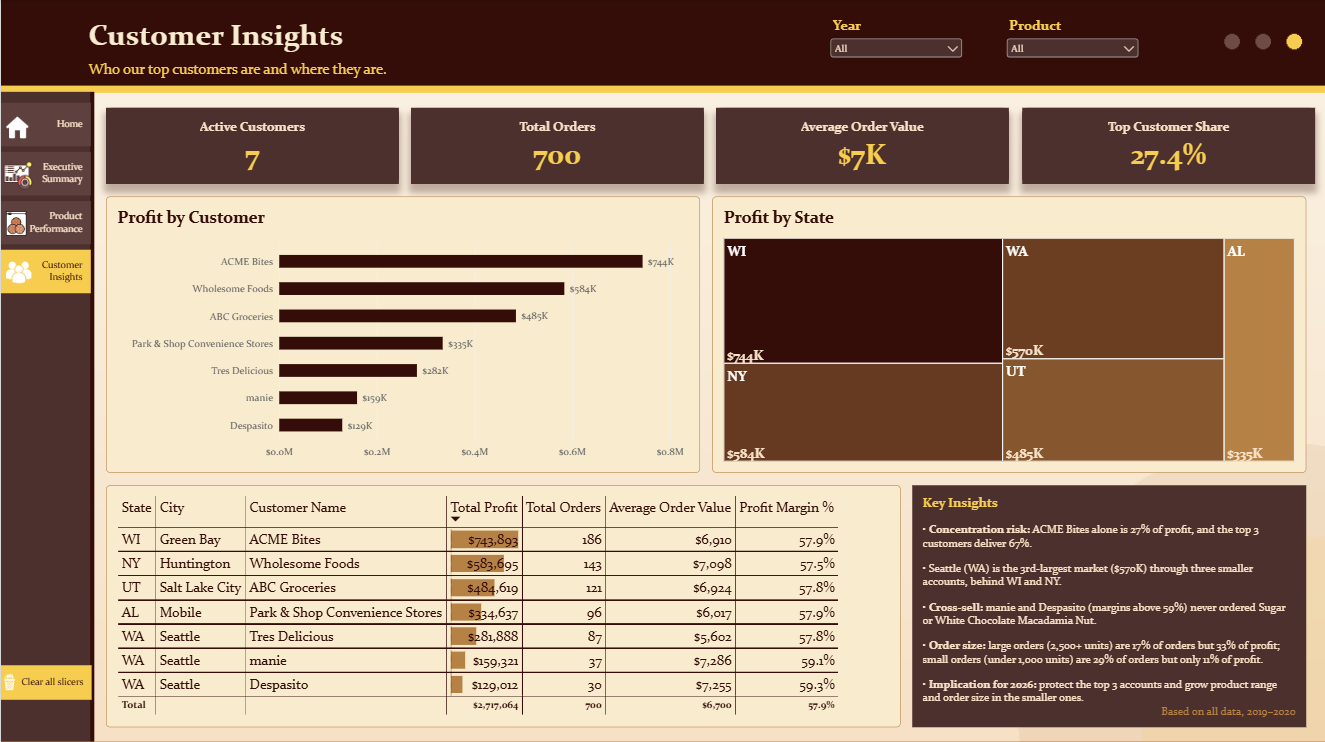

The dashboard page shown, as its layout file describes it:
{"tool":"powerbi","page":{"name":"Customer Insights","canvas":[1920,1080],"ordinal":3},"visuals":[{"type":"pageNavigator","box":[0,150,130.6,276.2],"z":0},{"type":"actionButton","box":[0,964,131.2,50],"z":1000},{"type":"image","box":[2.9,170,40,32.1],"z":2000},{"type":"image","box":[4.3,302.9,36.4,45.7],"z":3000},{"type":"image","box":[4.2,214.2,42.6,84.2],"z":4000},{"type":"image","box":[7.1,371.8,36.5,50],"z":5000},{"type":"image","box":[0,963.8,25,48.8],"z":6000},{"type":"textbox","box":[126,25,568,62],"z":8001},{"type":"textbox","box":[126,88,458,62],"z":8002},{"type":"slicer","fields":{"Values":["DatesTable.Year"]},"box":[1196,26,200,98],"z":8003},{"type":"slicer","fields":{"Values":["Orders.Product"]},"box":[1452,26,200,65],"z":8004},{"type":"cardVisual","fields":{"Data":["All Measures.Total Orders"]},"box":[594,158,424,110],"z":8005},{"type":"cardVisual","fields":{"Data":["All Measures.Average Order Value"]},"box":[1036,158,424,110],"z":8006},{"type":"cardVisual","fields":{"Data":["All Measures.Active Customers"]},"box":[152,158,424,110],"z":8007},{"type":"cardVisual","fields":{"Data":["All Measures.Top Customer Share"]},"box":[1478,158,424,110],"z":8008},{"type":"clusteredBarChart","title":"Profit by Customer","fields":{"Category":["Customers.Customer Name"],"Y":["All Measures.Total Profit"]},"box":[152,286,860,400],"z":8009},{"type":"treemap","title":"Profit by State","fields":{"Group":["Customers.State"],"Values":["All Measures.Total Profit"]},"box":[1030,286,860,400],"z":8010},{"type":"tableEx","fields":{"Values":["Customers.State","Customers.City","Customers.Customer Name","All Measures.Total Profit","All Measures.Total Orders","All Measures.Average Order Value","All Measures.Profit Margin %"]},"box":[152,704,1150,350],"z":8012},{"type":"textbox","box":[1320,704,570,350],"z":8013}]}

Visuals, with their boxes in screenshot pixels (x1, y1, x2, y2), scaled from the page's 1920x1080 canvas onto the 1325x742 screenshot:
pageNavigator: l=0, t=103, r=90, b=293
actionButton: l=0, t=662, r=91, b=697
image: l=2, t=117, r=30, b=139
image: l=3, t=208, r=28, b=240
image: l=3, t=147, r=32, b=205
image: l=5, t=255, r=30, b=290
image: l=0, t=662, r=17, b=696
textbox: l=87, t=17, r=479, b=60
textbox: l=87, t=60, r=403, b=103
slicer - DatesTable.Year: l=825, t=18, r=963, b=85
slicer - Orders.Product: l=1002, t=18, r=1140, b=63
cardVisual - All Measures.Total Orders: l=410, t=109, r=703, b=184
cardVisual - All Measures.Average Order Value: l=715, t=109, r=1008, b=184
cardVisual - All Measures.Active Customers: l=105, t=109, r=398, b=184
cardVisual - All Measures.Top Customer Share: l=1020, t=109, r=1313, b=184
"Profit by Customer" clusteredBarChart: l=105, t=196, r=698, b=471
"Profit by State" treemap: l=711, t=196, r=1304, b=471
tableEx - Customers.State x Customers.City: l=105, t=484, r=899, b=724
textbox: l=911, t=484, r=1304, b=724
